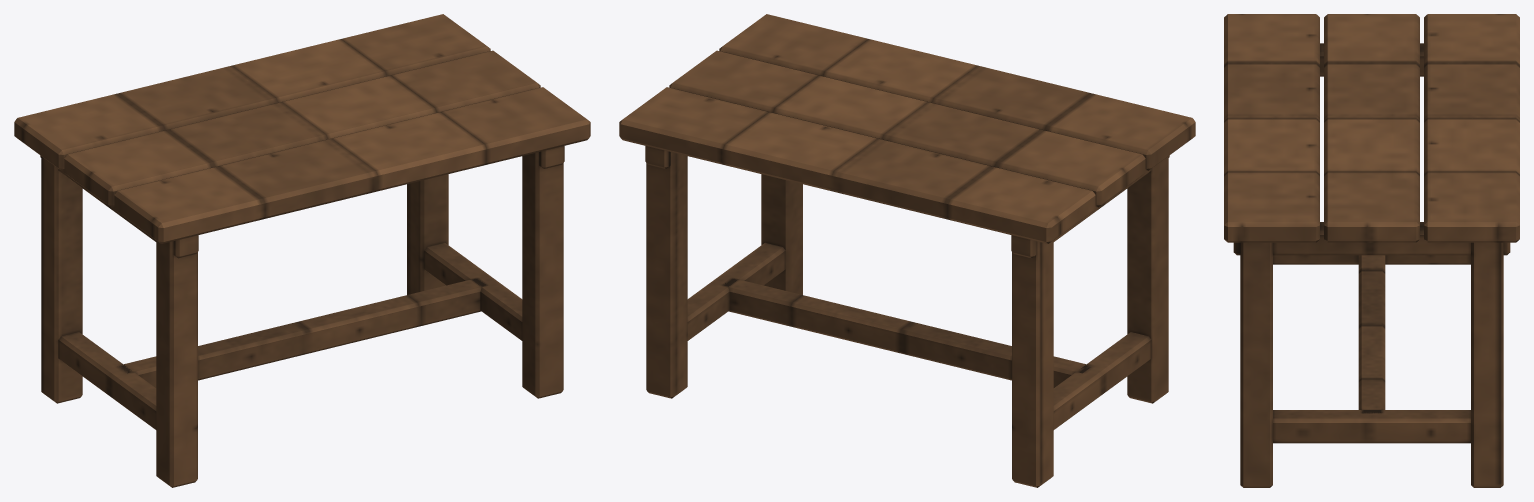
Rendered from Prop_Table.fbx.
3 views of the same model, side by side, from view 1: azimuth 30°, elevation 25°; view 2: azimuth 150°, elevation 25°; view 3: azimuth 270°, elevation 25° (orthographic).
Parts seen in each view (by area): view 1: Prop_Table; view 2: Prop_Table; view 3: Prop_Table.
Boxes of the visible parts, x1,y1,x2,y2 form: Prop_Table: [14, 14, 590, 487]; Prop_Table: [619, 14, 1195, 487]; Prop_Table: [1224, 14, 1519, 487].
Size of the model in its own units: 1.3 by 0.79 by 0.77.
